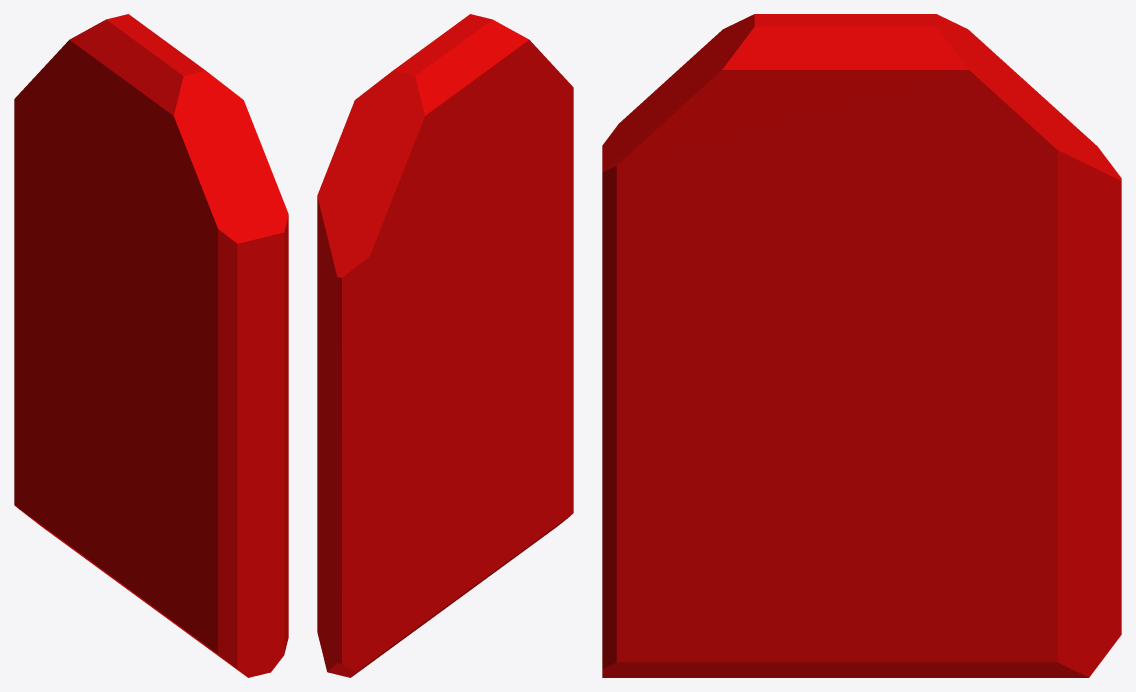
File: MedievalDoor05Collider.fbx
3 views of the same model, side by side, from view 1: azimuth 30°, elevation 25°; view 2: azimuth 150°, elevation 25°; view 3: azimuth 270°, elevation 25° (orthographic). The views are drawn at different scales.
Visible parts, largest first — view 1: MedievalDoor05Collision; view 2: MedievalDoor05Collision; view 3: MedievalDoor05Collision.
Boxes of the visible parts, bbox=[...] form: MedievalDoor05Collision: bbox=[14, 14, 288, 677]; MedievalDoor05Collision: bbox=[317, 14, 573, 677]; MedievalDoor05Collision: bbox=[602, 14, 1121, 677].
Size of the model in its own units: 28.06 by 213 by 154.
